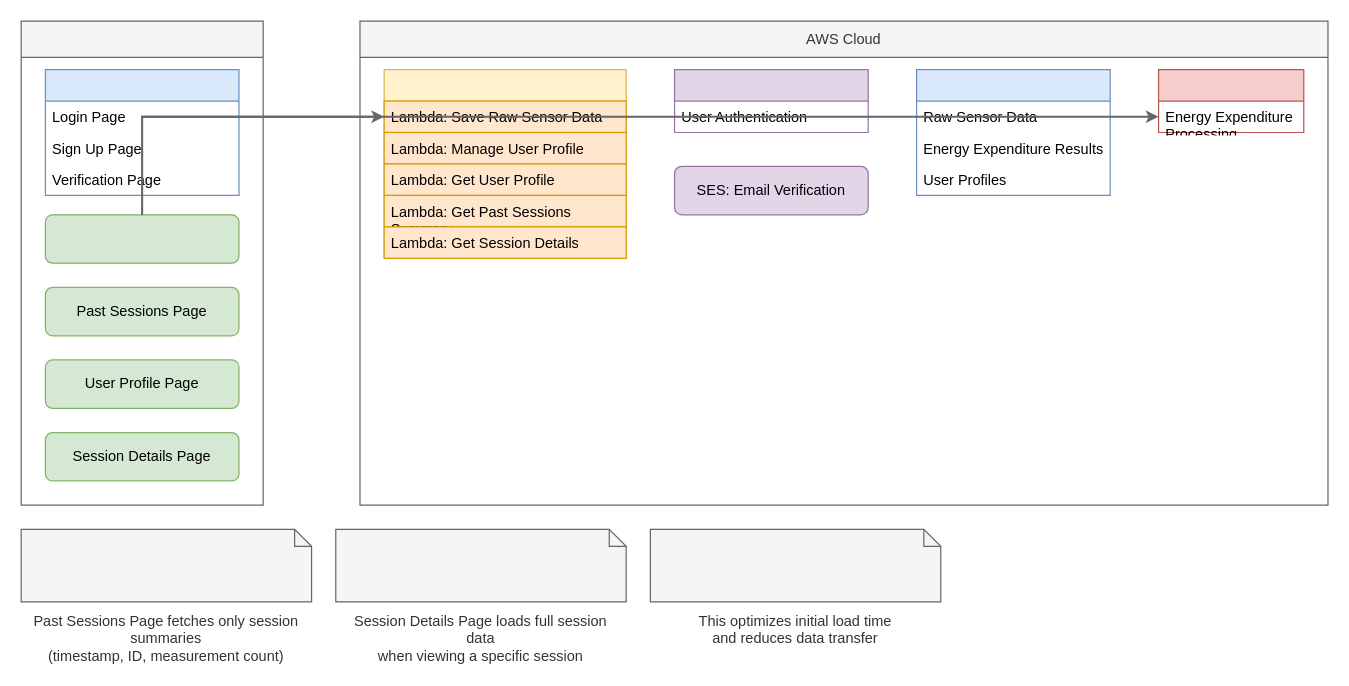
The diagram is 1349 pixels wide and 686 high, and some of its shapes have lost their labels. Each missing label, with the box of its shape:
API Gateway: (383, 68, 626, 258)
Authentication Pages: (44, 68, 239, 195)
Cognito: (673, 68, 868, 132)
DynamoDB: (915, 68, 1110, 195)
Fargate: (1157, 68, 1304, 132)
Frontend: (20, 20, 263, 505)
Home Page (SensorScreen): (44, 214, 239, 263)
